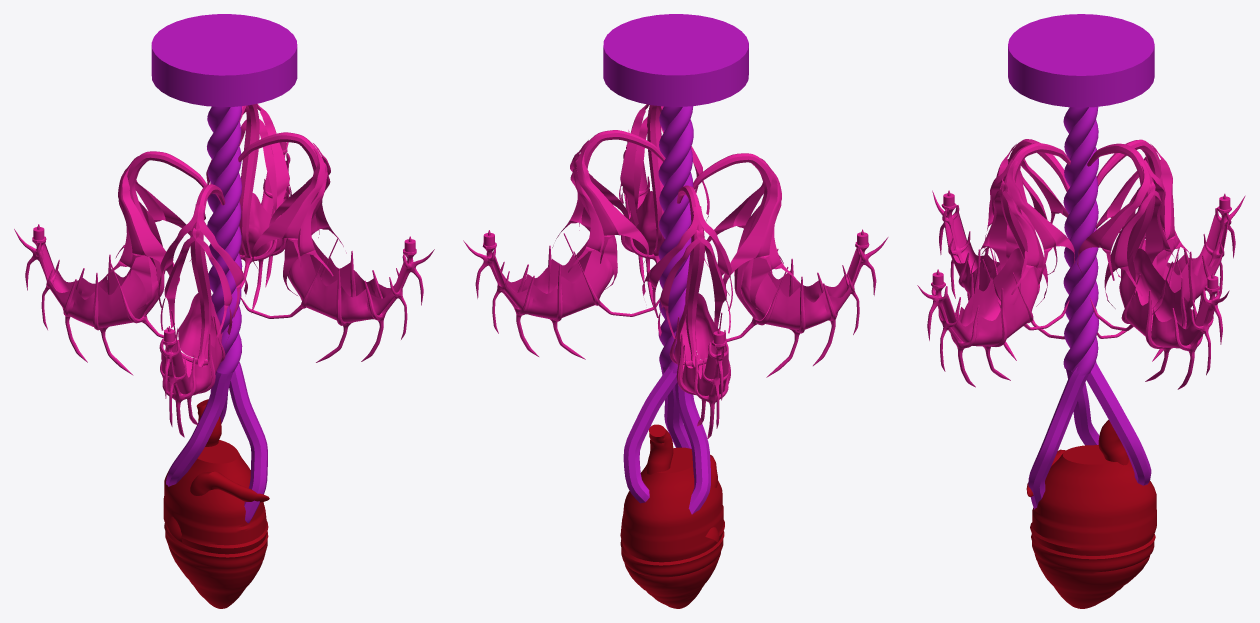
The model's file is Abattoir's Chandellier.fbx.
3 renders of one model, left to right at view 1: azimuth 30°, elevation 25°; view 2: azimuth 150°, elevation 25°; view 3: azimuth 270°, elevation 25°, orthographic.
Parts seen in each view (by area): view 1: Cylinder; view 2: Cylinder; view 3: Cylinder.
Boxes of the visible parts, <box> form: Cylinder: <box>14,14,434,608</box>; Cylinder: <box>463,14,888,608</box>; Cylinder: <box>917,14,1245,608</box>.
Bounding box in the file's own units: 14.48 × 27.93 × 14.71.
